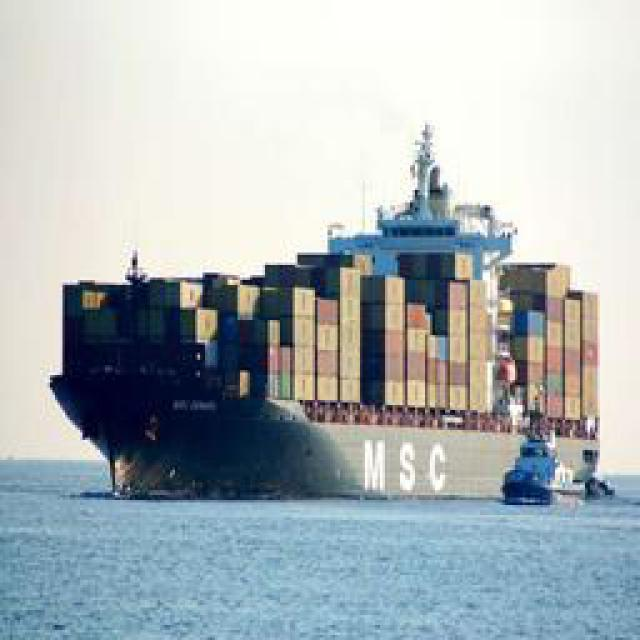Ship: (34, 105, 624, 514), (497, 379, 592, 513)
